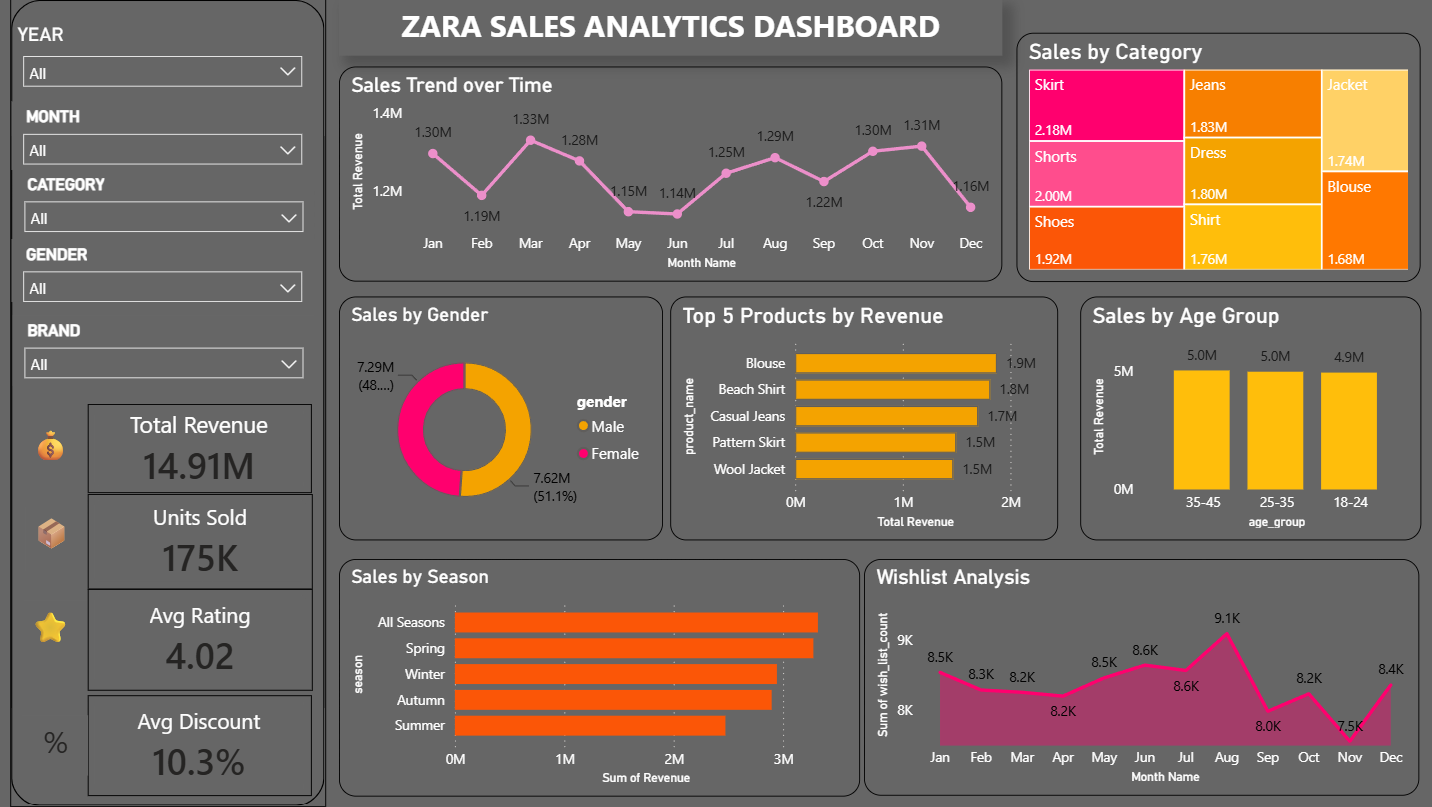

What the dashboard file says about the page in this screenshot:
{"tool":"powerbi","page":{"name":"Page 1","canvas":[1280,720],"ordinal":0},"visuals":[{"type":"shape","box":[10.1,0,280.4,719.1],"z":0},{"type":"slicer","title":"YEAR","fields":{"Values":["fashion_data_2018_2022.year_of_sale"]},"box":[10.6,21.2,268,57.5],"z":1000},{"type":"slicer","fields":{"Values":["fashion_data_2018_2022.month_of_sale"]},"box":[10.6,90.9,268,60.6],"z":2000},{"type":"slicer","fields":{"Values":["fashion_data_2018_2022.category"]},"box":[12.1,151.4,268,62.1],"z":3000},{"type":"slicer","fields":{"Values":["fashion_data_2018_2022.gender"]},"box":[10.6,213.5,268,56],"z":4000},{"type":"slicer","fields":{"Values":["fashion_data_2018_2022.brand"]},"box":[12.1,281.6,268,62.1],"z":5000},{"type":"kpi","title":"Total Revenue ","fields":{"Indicator":["fashion_data_2018_2022.Total Revenue"],"TrendLine":["fashion_data_2018_2022.year_of_sale"]},"box":[10.6,360.4,268,78.7],"z":6000},{"type":"kpi","title":"Units Sold ","fields":{"Indicator":["fashion_data_2018_2022.Units Sold"],"TrendLine":["fashion_data_2018_2022.year_of_sale"]},"box":[10.6,439.1,268,84.8],"z":7000},{"type":"kpi","title":"Average Rating ","fields":{"Indicator":["fashion_data_2018_2022.Avg Rating"],"TrendLine":["fashion_data_2018_2022.year_of_sale"]},"box":[10.6,523.9,268,90.9],"z":8000},{"type":"kpi","title":"Average Discount","fields":{"TrendLine":["fashion_data_2018_2022.year_of_sale"],"Indicator":["fashion_data_2018_2022.Avg Discount"]},"box":[10.6,614.8,268,89.3],"z":9000},{"type":"textbox","box":[22.7,372.5,56,53],"z":10000},{"type":"textbox","box":[22.7,451.2,71.2,57.5],"z":11000},{"type":"textbox","box":[22.7,534.5,56,59.1],"z":12000},{"type":"textbox","box":[19.7,637.5,63.6,53],"z":13000},{"type":"lineChart","title":"Sales Trend over Time","fields":{"Category":["fashion_data_2018_2022.month_of_sale"],"Y":["fashion_data_2018_2022.Total Revenue"]},"box":[302,60.4,589.6,191.3],"z":14000},{"type":"treemap","title":"Sales by Category","fields":{"Values":["Sum(fashion_data_2018_2022.Revenue)"],"Group":["fashion_data_2018_2022.category"]},"box":[904.6,30.2,359.5,221.5],"z":15000},{"type":"donutChart","title":"Sales by Gender","fields":{"Category":["fashion_data_2018_2022.gender"],"Y":["fashion_data_2018_2022.Total Revenue"]},"box":[302,264.6,287.6,217.2],"z":16000},{"type":"clusteredBarChart","title":"Top 5 Products by Revenue","fields":{"Category":["fashion_data_2018_2022.product_name"],"Y":["fashion_data_2018_2022.Total Revenue"]},"box":[596.8,264.6,345.1,217.2],"z":17000},{"type":"columnChart","title":"Sales by Age Group","fields":{"Y":["fashion_data_2018_2022.Total Revenue"],"Category":["fashion_data_2018_2022.age_group"]},"box":[960.7,264.6,303.4,217.2],"z":18000},{"type":"barChart","title":"Sales by Season","fields":{"Category":["fashion_data_2018_2022.season"],"Y":["Sum(fashion_data_2018_2022.Revenue)"]},"box":[302,497.6,463.1,211.4],"z":19000},{"type":"textbox","box":[302,0,589.6,50.3],"z":20000},{"type":"areaChart","title":"Wishlist Analysis","fields":{"Category":["fashion_data_2018_2022.month_of_sale"],"Y":["Sum(fashion_data_2018_2022.wish_list_count)"]},"box":[769.2,498.2,493.6,210.5],"z":21000}]}

Visuals, with their boxes in screenshot pixels (x1, y1, x2, y2), scaled from the page's 1280x720 canvas onto the 1432x807 screenshot:
shape: 11,0,325,806
"YEAR" slicer: 12,24,312,88
slicer - fashion_data_2018_2022.month_of_sale: 12,102,312,170
slicer - fashion_data_2018_2022.category: 14,170,313,239
slicer - fashion_data_2018_2022.gender: 12,239,312,302
slicer - fashion_data_2018_2022.brand: 14,316,313,385
"Total Revenue " kpi: 12,404,312,492
"Units Sold " kpi: 12,492,312,587
"Average Rating " kpi: 12,587,312,689
"Average Discount" kpi: 12,689,312,789
textbox: 25,418,88,477
textbox: 25,506,105,570
textbox: 25,599,88,665
textbox: 22,715,93,774
"Sales Trend over Time" lineChart: 338,68,997,282
"Sales by Category" treemap: 1012,34,1414,282
"Sales by Gender" donutChart: 338,297,660,540
"Top 5 Products by Revenue" clusteredBarChart: 668,297,1054,540
"Sales by Age Group" columnChart: 1075,297,1414,540
"Sales by Season" barChart: 338,558,856,795
textbox: 338,0,997,56
"Wishlist Analysis" areaChart: 861,558,1413,794
